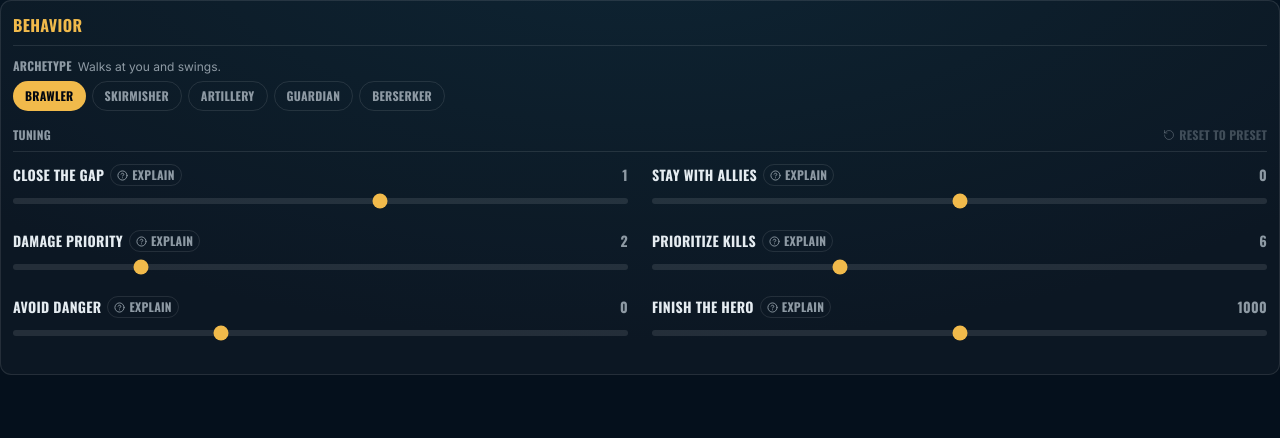
it: AiProfileEditor › hides slider explanations until Explain is pressed
This screenshot has width=1280, height=438.
Click the button with aria-label "show explanation for close the gap": (146,175) [110,164,182,186]
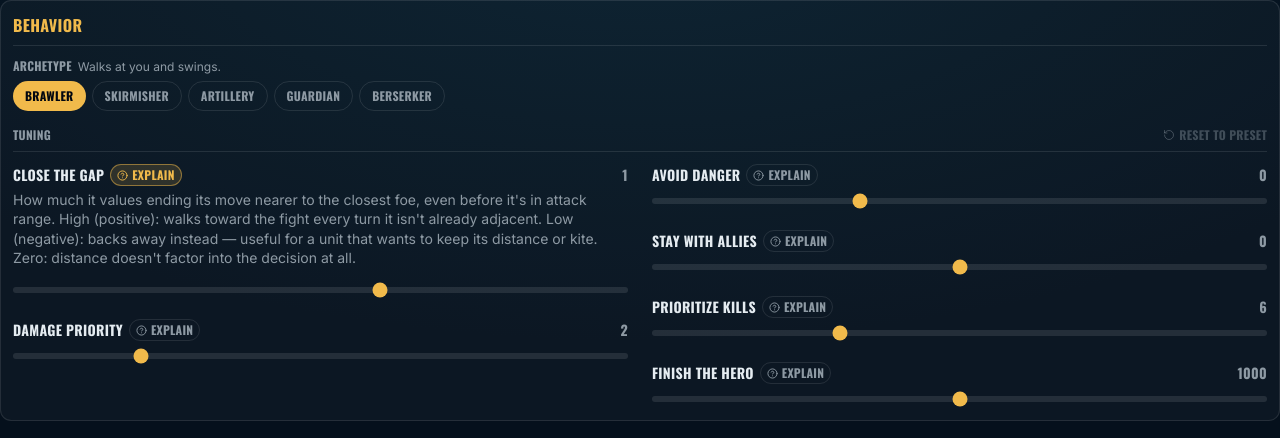
Result: the text "walks toward the fight every turn" is shown at [13,191,598,266]
Result: the button named "show explanation for close the gap" is expanded
Click the button with aria-label "hide explanation for close the gap": (146,175) [110,164,182,186]
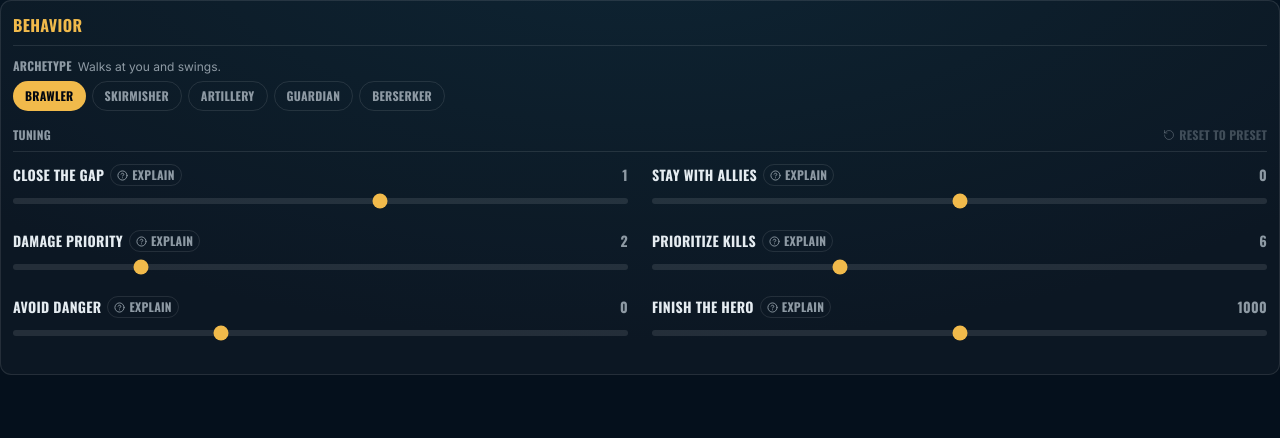
Result: the text "walks toward the fight every turn" is gone
